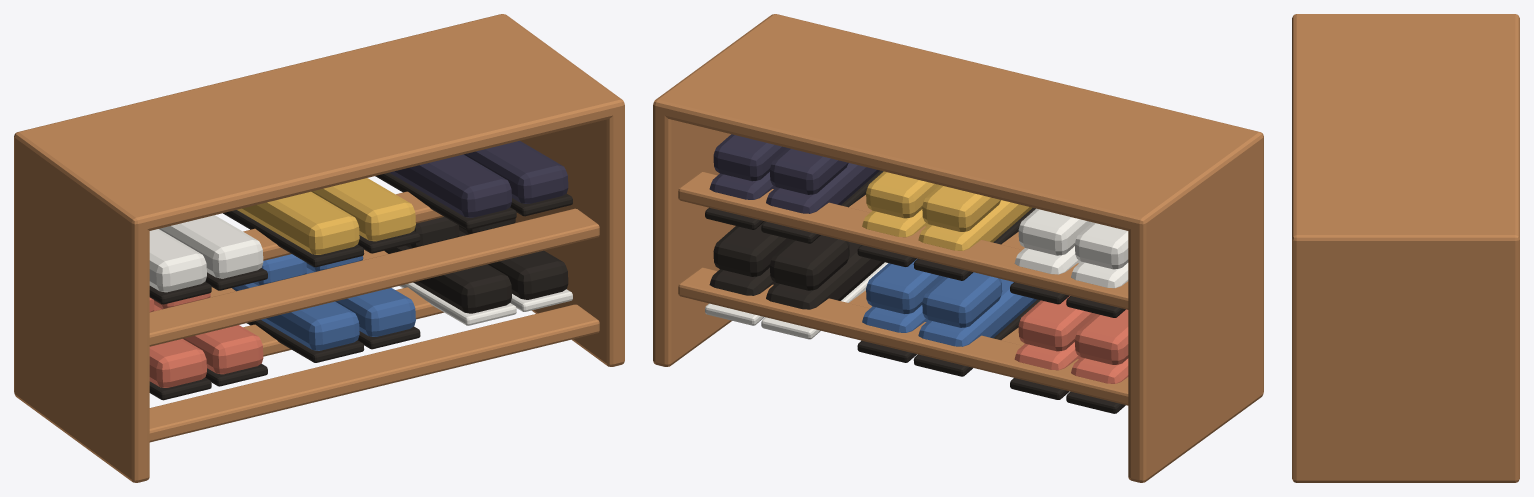
Rendered from hh_cat_shoe_rack.glb.
The picture shows the model from 3 angles, left to right: view 1: azimuth 30°, elevation 25°; view 2: azimuth 150°, elevation 25°; view 3: azimuth 270°, elevation 25°; orthographic projection. The views are drawn at different scales.
Parts seen in each view (by area): view 1: top, side, slat, slat.003, side.001, shoe.008, shoe.010, shoe.007, shoe.009, shoe.011, shoe.002, shoe.004 (+21 smaller); view 2: top, side, side.001, slat.002, slat.005, shoe_heel.002, shoe_heel.004, shoe.004, shoe.002, shoe_heel.001, shoe_heel.005, shoe_heel.003 (+29 smaller); view 3: side.001, top, side.
Part boxes in pixels (<box>): top: <box>14,14,624,230</box>; side: <box>14,130,149,482</box>; slat: <box>149,304,599,442</box>; slat.003: <box>149,208,599,346</box>; side.001: <box>493,14,624,366</box>; shoe.008: <box>237,191,359,254</box>; shoe.010: <box>389,154,511,217</box>; shoe.007: <box>159,215,263,278</box>; shoe.009: <box>311,178,415,241</box>; shoe.011: <box>464,140,568,203</box>; shoe.002: <box>232,283,359,350</box>; shoe.004: <box>384,245,511,313</box>; top: <box>653,14,1263,230</box>; side: <box>1128,130,1263,482</box>; side.001: <box>653,14,784,366</box>; slat.002: <box>678,267,1128,405</box>; slat.005: <box>678,172,1128,309</box>; shoe_heel.002: <box>922,272,1002,327</box>; shoe_heel.004: <box>769,235,849,290</box>; shoe.004: <box>766,241,884,309</box>; shoe.002: <box>918,279,1036,346</box>; shoe_heel.001: <box>1018,296,1096,351</box>; shoe_heel.005: <box>713,221,791,276</box>; shoe_heel.003: <box>866,258,944,313</box>; side.001: <box>1292,231,1519,482</box>; top: <box>1292,14,1519,247</box>; side: <box>1292,14,1519,21</box>.
Size of the model in its own units: 0.7 by 0.36 by 0.3.
